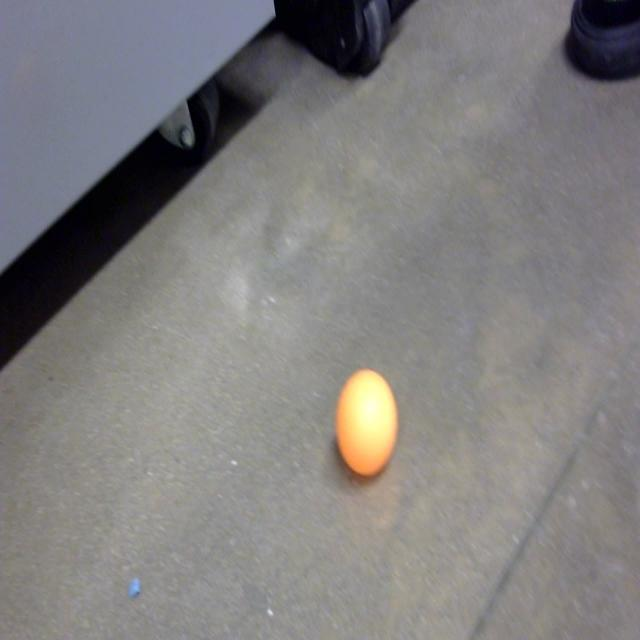ball: (336, 366, 400, 480)
